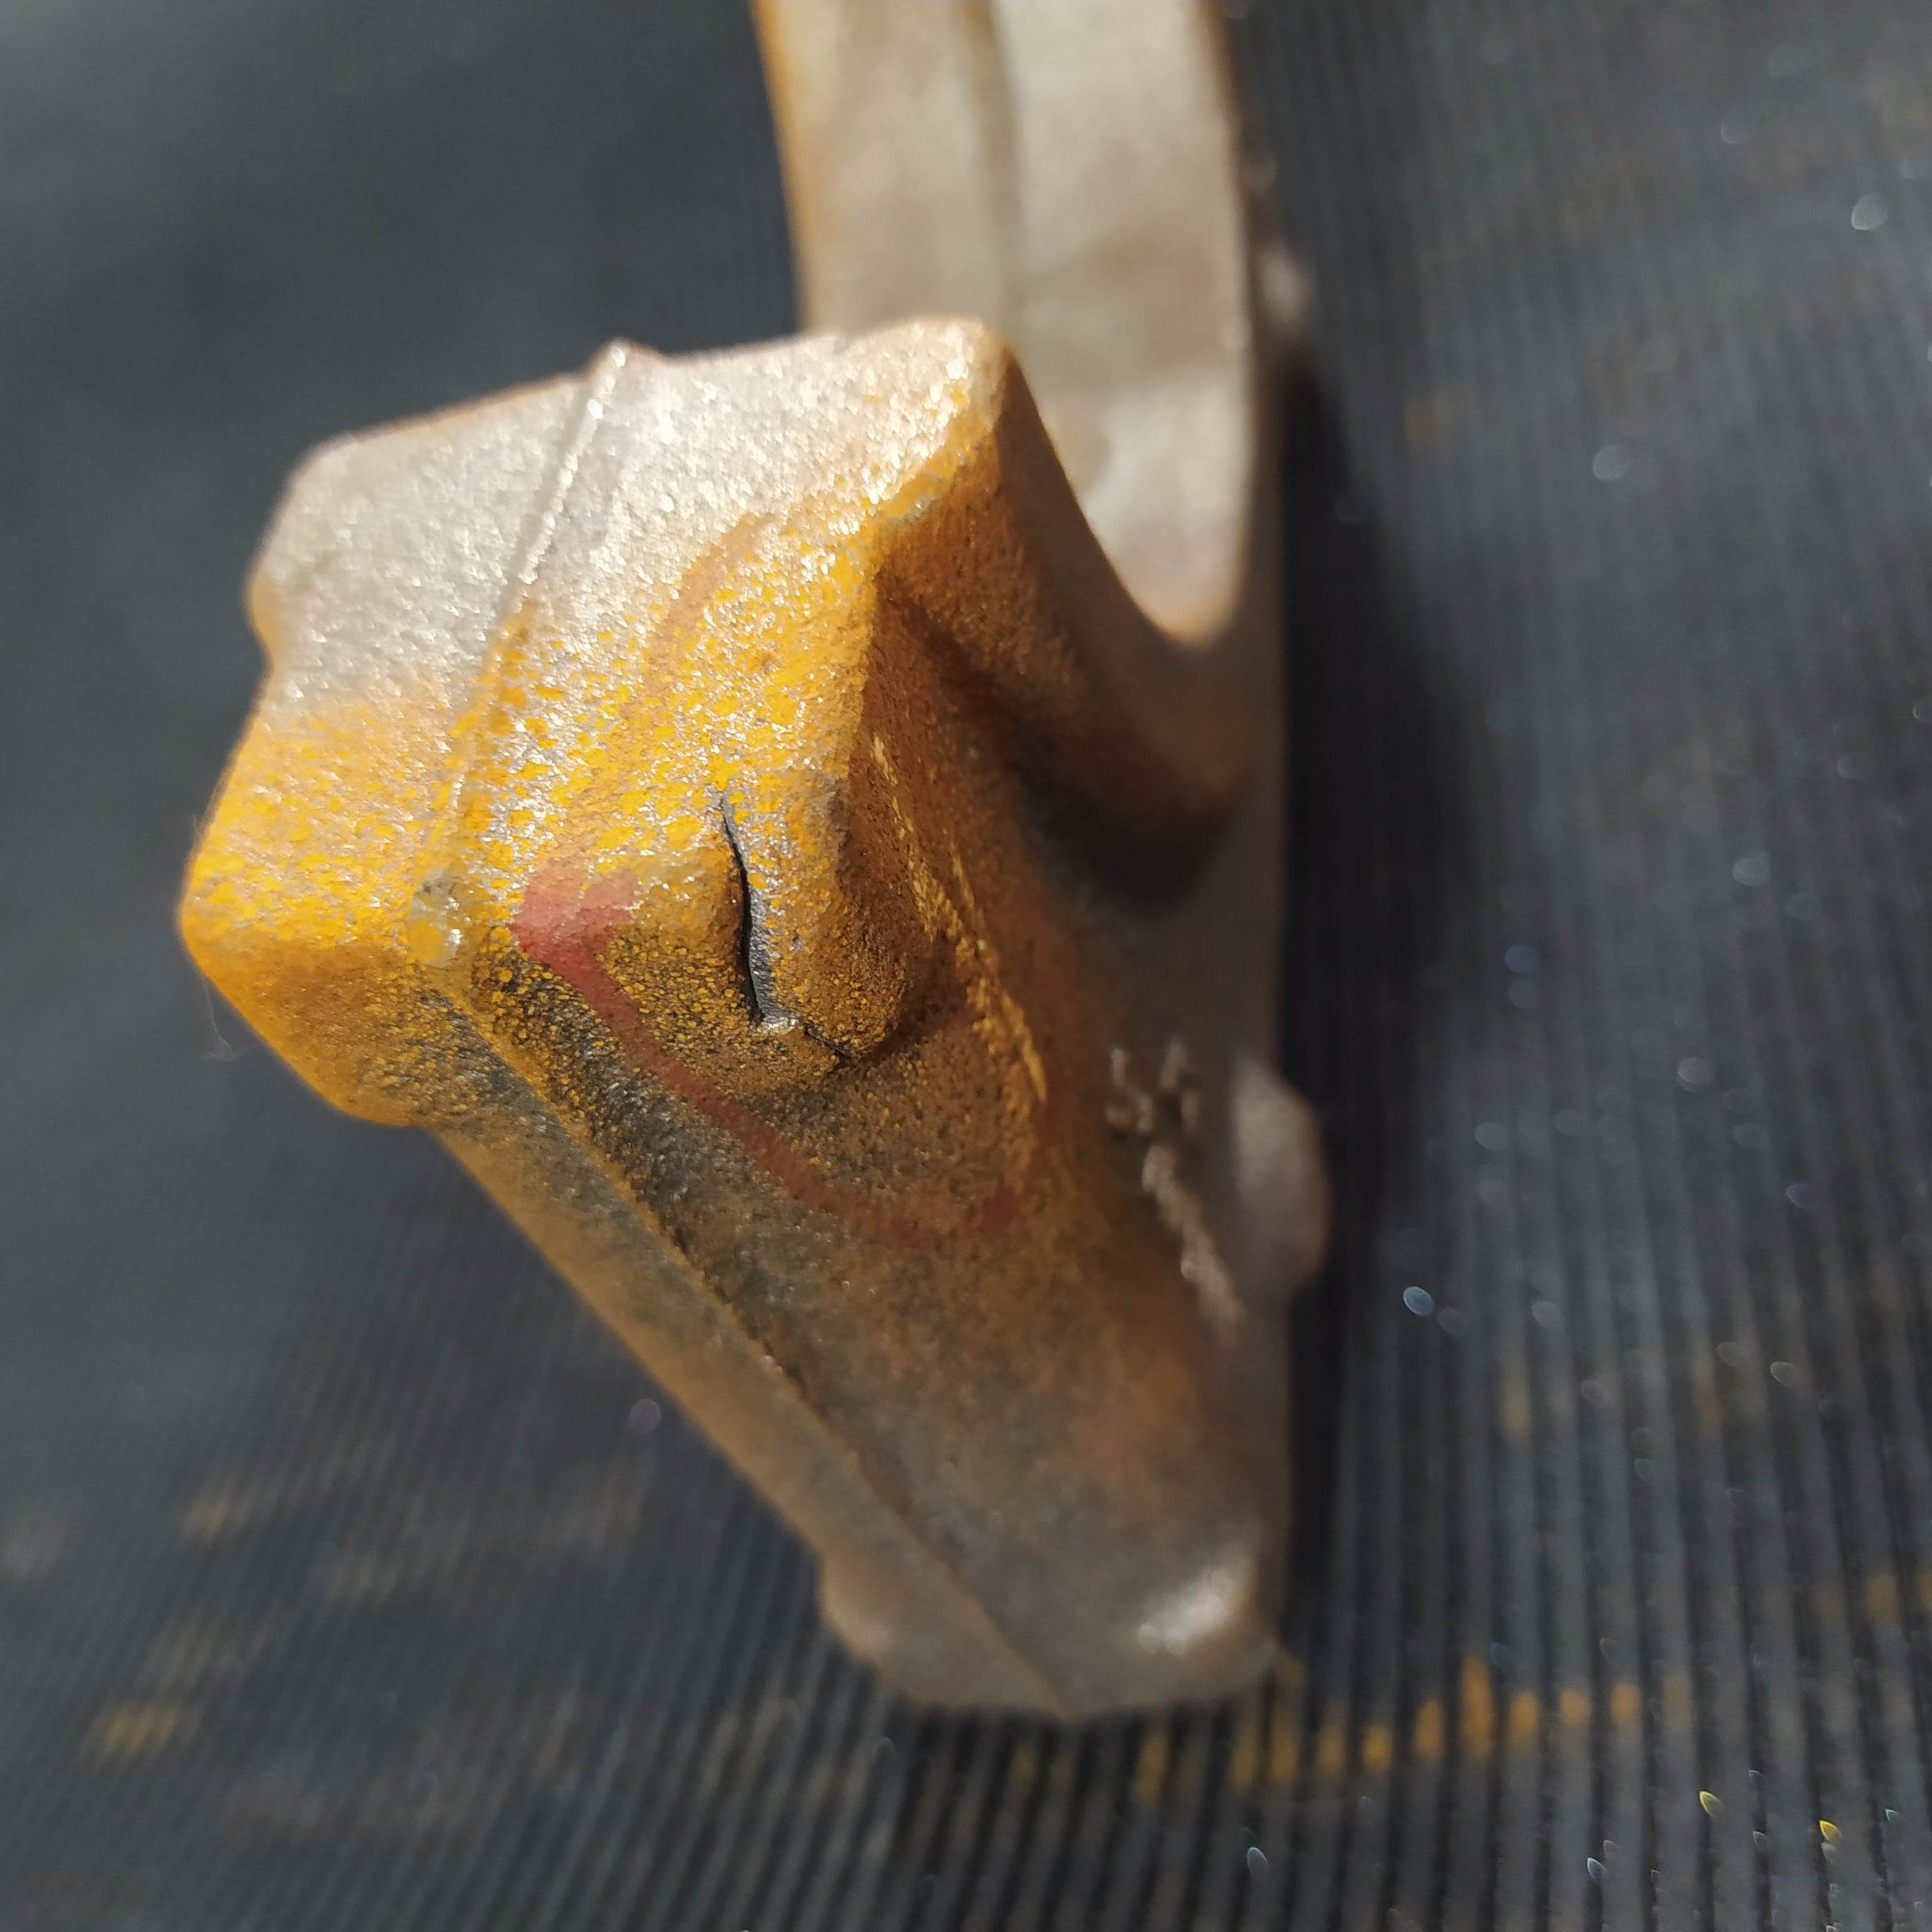rechupe: (702, 791, 798, 1031)
